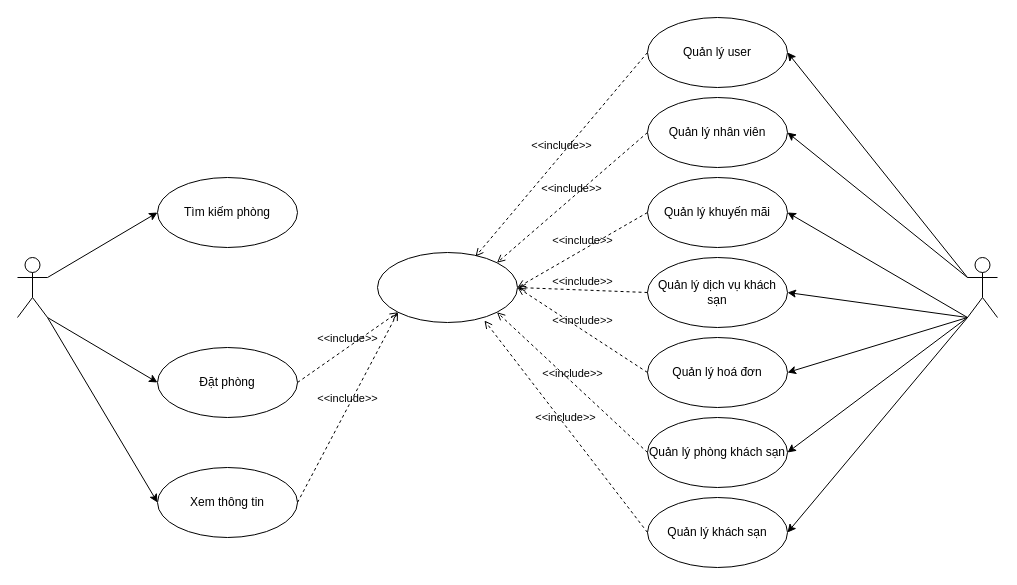
Some shapes in this 1017 by 585 pixel diagram are drawn without their labels. Each missing label, with the centre of its shape:
Admin: (982,287)
User: (32,287)
Đăng nhập: (447,287)
